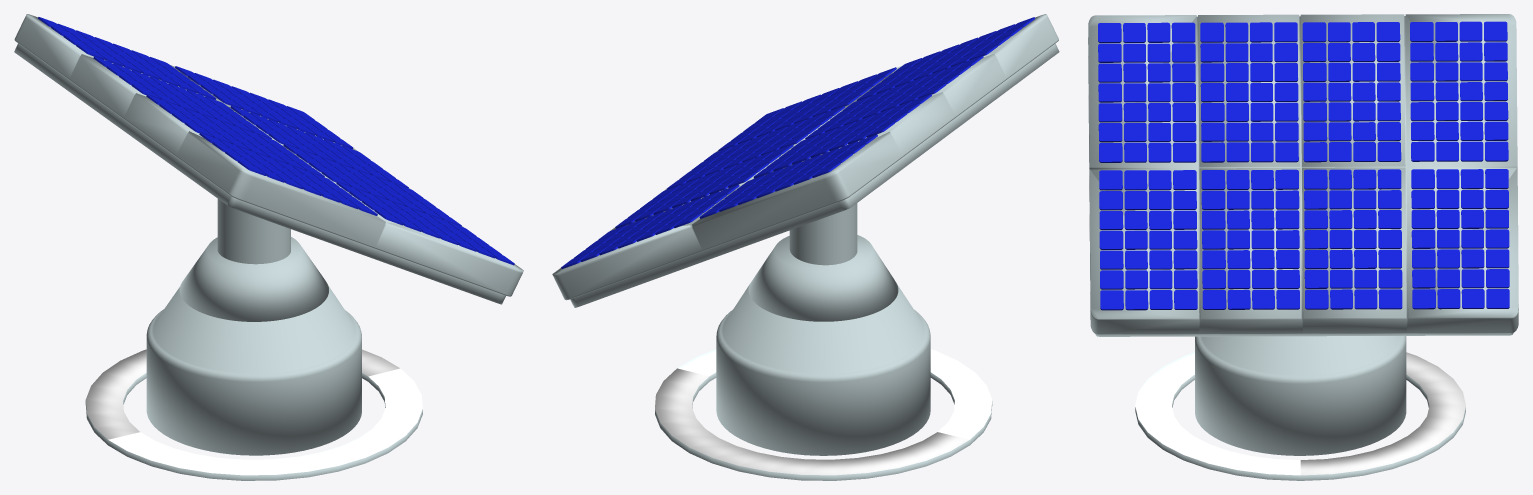
File: SolarPanel.fbx
3 renders of one model, left to right at view 1: azimuth 30°, elevation 25°; view 2: azimuth 150°, elevation 25°; view 3: azimuth 270°, elevation 25°, orthographic. The views are drawn at different scales.
Visible parts, largest first — view 1: Cylinder.008, Plane.007, Plane.006, Circle.001, Cylinder.009, Plane.008, Cylinder.007; view 2: Cylinder.008, Plane.007, Plane.006, Circle.001, Cylinder.009, Plane.008, Cylinder.007; view 3: Plane.007, Plane.006, Cylinder.008, Circle.001, Plane.008.
Boxes of the visible parts, x1,y1,x2,y2 form: Cylinder.008: [146, 285, 361, 455]; Plane.007: [38, 17, 514, 265]; Plane.006: [14, 14, 523, 296]; Circle.001: [85, 349, 422, 480]; Cylinder.009: [179, 237, 328, 321]; Plane.008: [14, 43, 505, 304]; Cylinder.007: [217, 199, 290, 264]; Cylinder.008: [716, 283, 930, 455]; Plane.007: [561, 17, 1035, 268]; Plane.006: [552, 14, 1058, 300]; Circle.001: [655, 349, 992, 480]; Cylinder.009: [748, 235, 898, 321]; Plane.008: [570, 43, 1059, 307]; Cylinder.007: [789, 203, 857, 265]; Plane.007: [1098, 21, 1509, 310]; Plane.006: [1088, 14, 1518, 334]; Cylinder.008: [1195, 336, 1406, 455]; Circle.001: [1135, 352, 1465, 480]; Plane.008: [1095, 332, 1513, 336].
Bounding box in the file's own units: 96.86 × 103 × 118.
